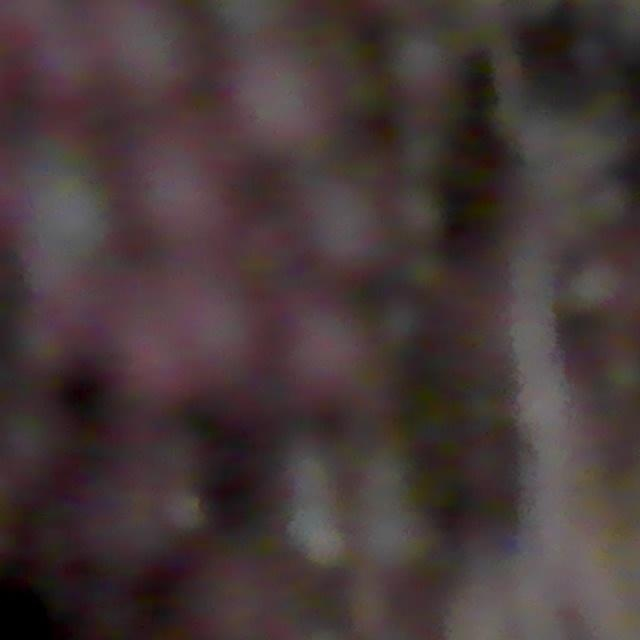SeaGrape: (272, 315, 377, 394), (235, 58, 310, 149), (177, 298, 249, 375), (156, 153, 221, 236), (324, 185, 386, 264), (395, 189, 444, 241)
